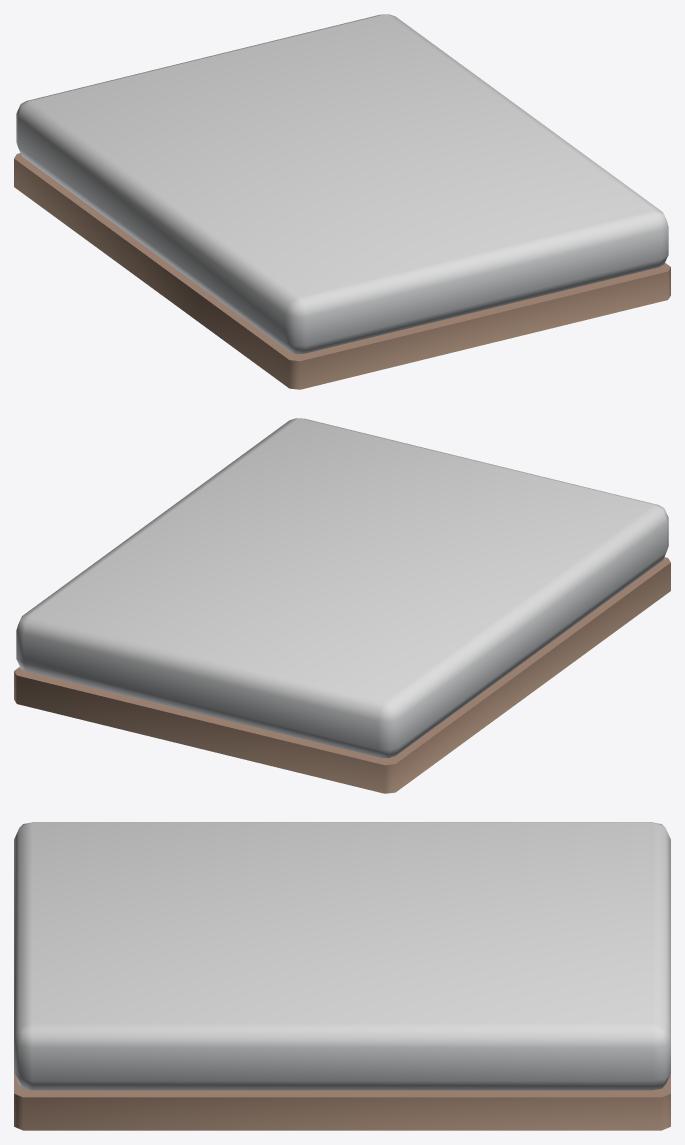
Rendered from bed-matress-double-floor.glb.
3 renders of one model, top to bottom at view 1: azimuth 30°, elevation 25°; view 2: azimuth 150°, elevation 25°; view 3: azimuth 270°, elevation 25°, orthographic. The views are drawn at different scales.
Visible parts, largest first — view 1: bed-matress-double-floor; view 2: bed-matress-double-floor; view 3: bed-matress-double-floor.
Part boxes in pixels (left/top/right/bottom): bed-matress-double-floor: left=14, top=14, right=670, bottom=389; bed-matress-double-floor: left=14, top=418, right=670, bottom=793; bed-matress-double-floor: left=14, top=822, right=670, bottom=1130.
Bounding box in the file's own units: 1.4 × 0.3 × 1.8.
